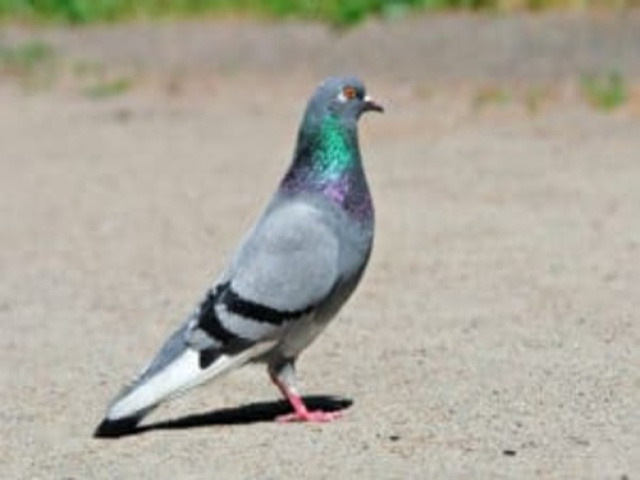Pigeon: (98, 75, 389, 443)
